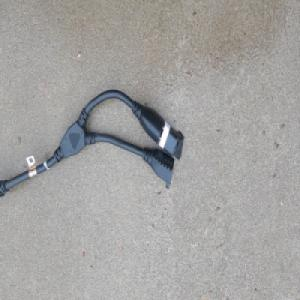Wire: (0, 89, 184, 201)
